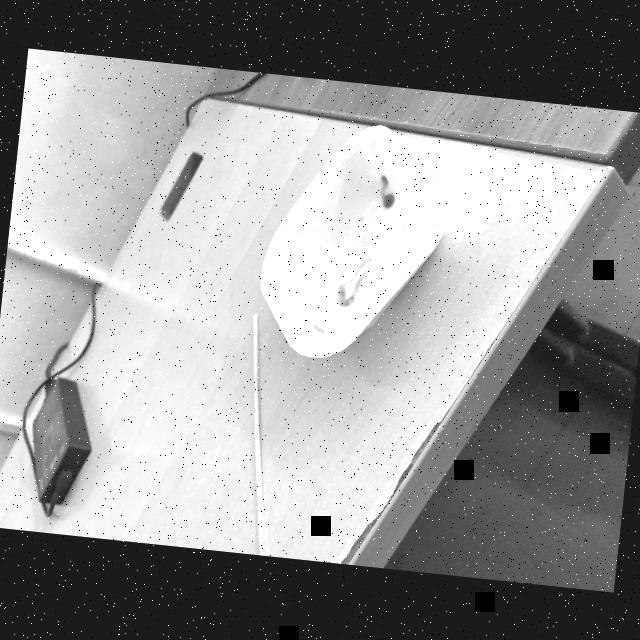cardboard_bowl: (255, 117, 459, 376)
stick: (220, 306, 286, 555)
